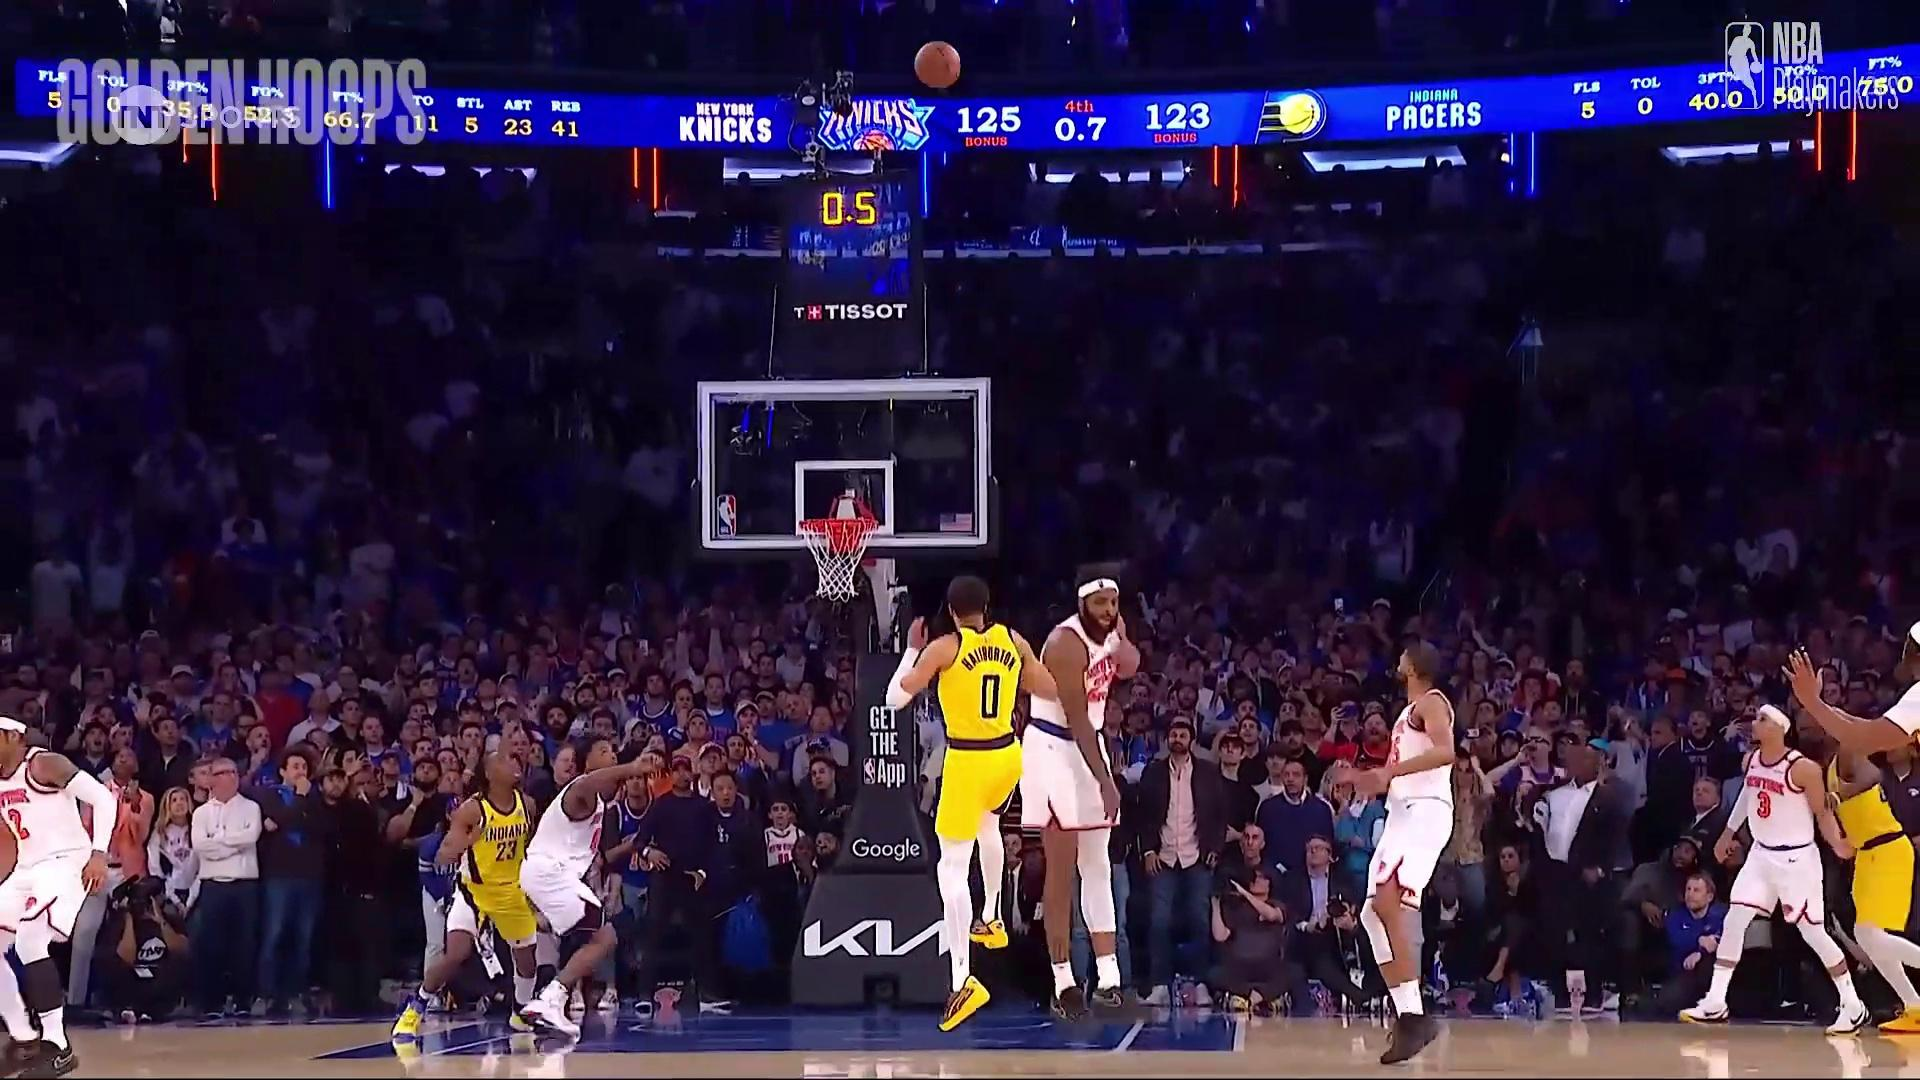ball: (913, 38, 968, 102)
hoop: (798, 513, 880, 601)
